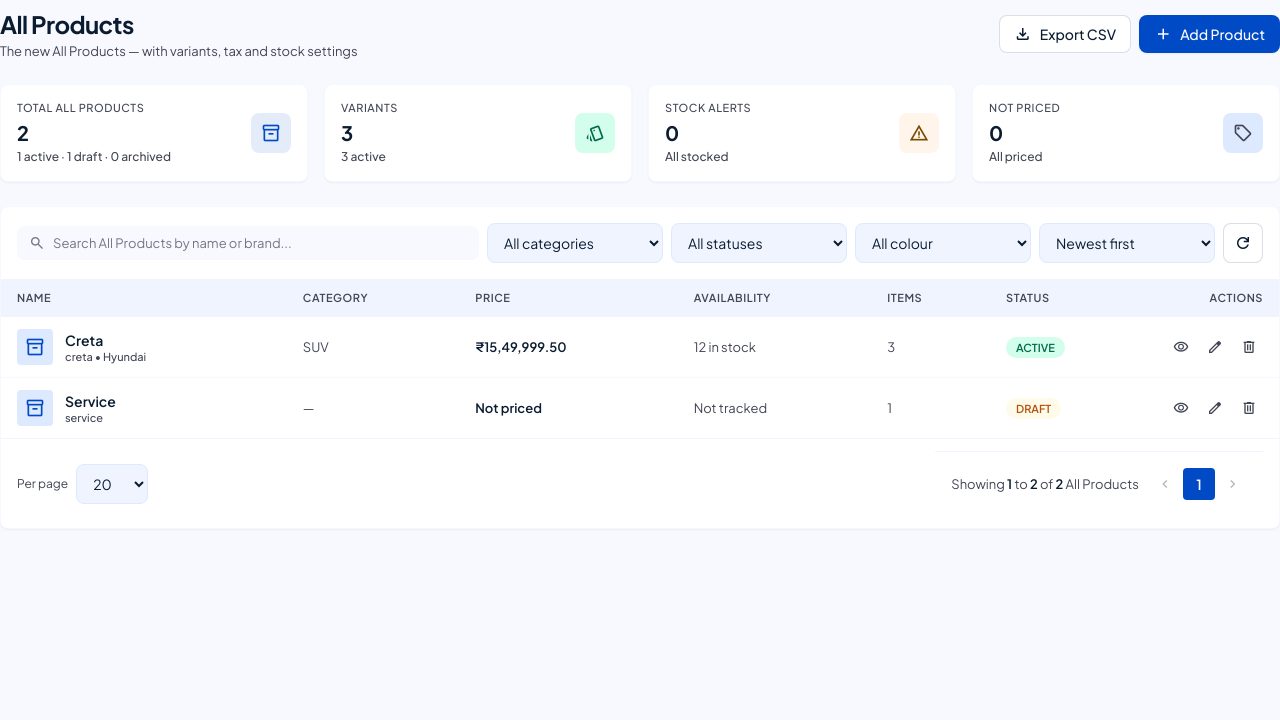
Test: ProductsV2Page › deletes after confirmation and restores from Status → Deleted
The image size is (1280, 720).
Click the button named "Delete Creta". click: (1249, 347)
box: [1235,333,1263,361]
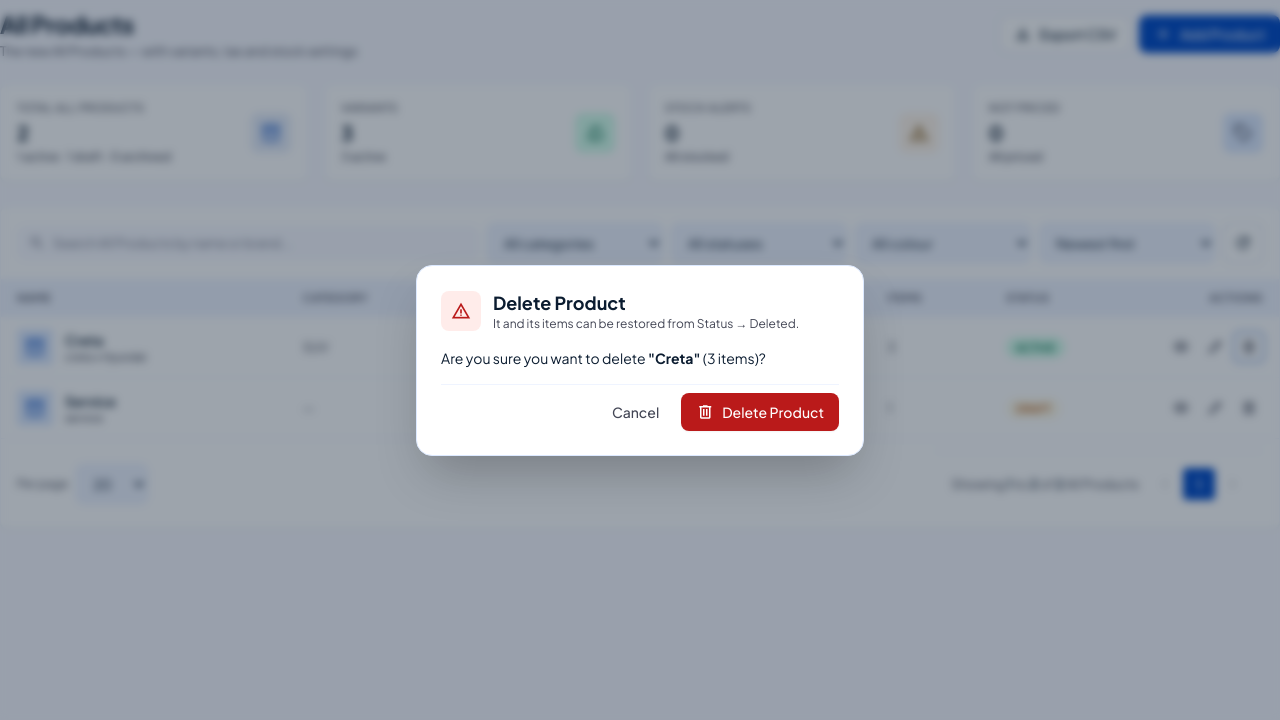
Now the dialog named "Delete Creta" shows "3 items"
Now the dialog named "Delete Creta" shows "Status → Deleted", box [493,316,799,330]
Click the button "Delete Product". click: (760, 412)
box: [681,392,839,430]
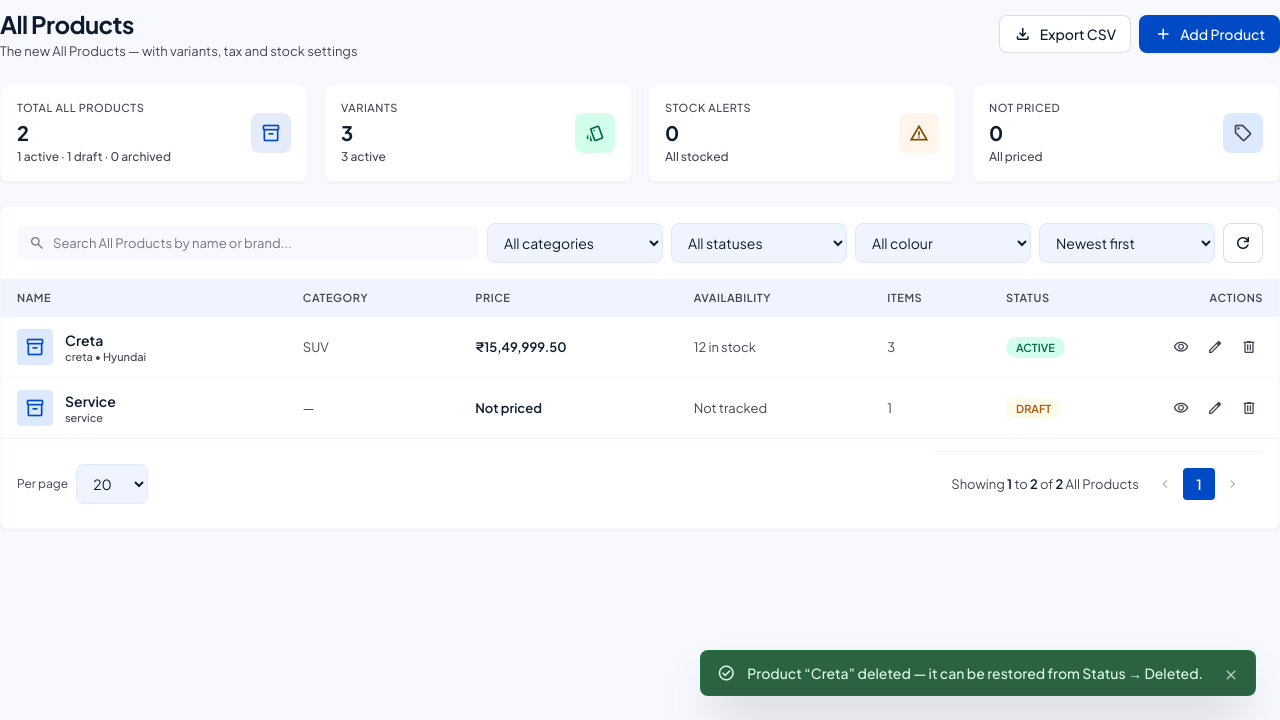
Now the text "deleted — it can be restored from Status → Deleted" is shown, box [747,664,1203,682]
Select "Deleted" in the dropdown named "Status". click: (759, 243)
box: [671,223,847,263]
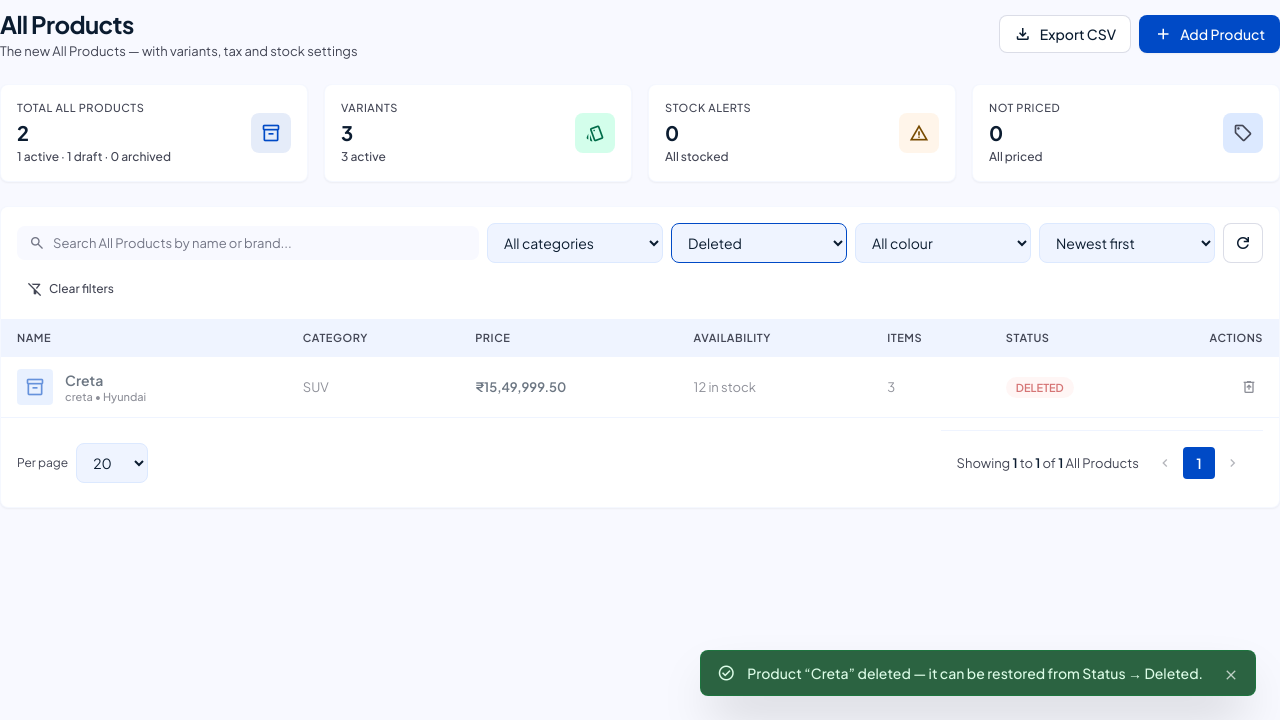
Click the button named "Restore Creta". click: (1249, 387)
box: [1235,373,1263,401]
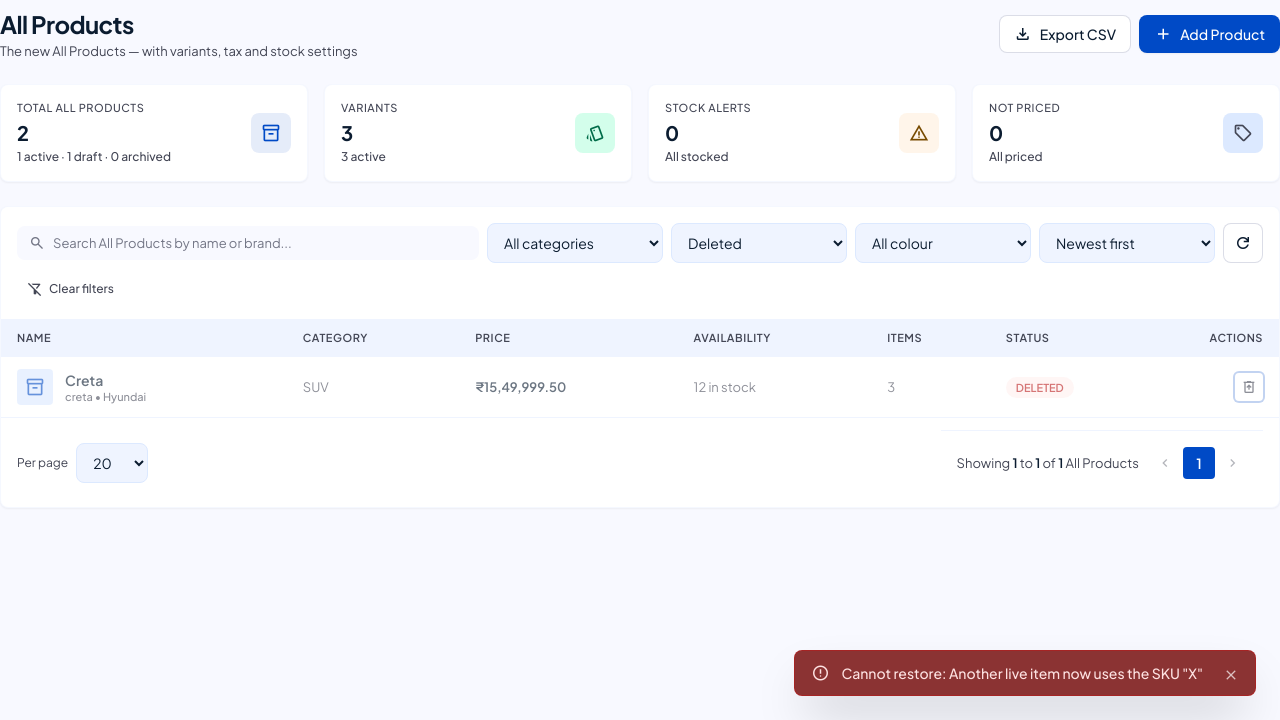
Now the text "Cannot restore: Another live item now uses the SKU \"X\"" is shown, box [841,663,1203,683]
